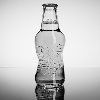beer: (31, 1, 65, 87)
